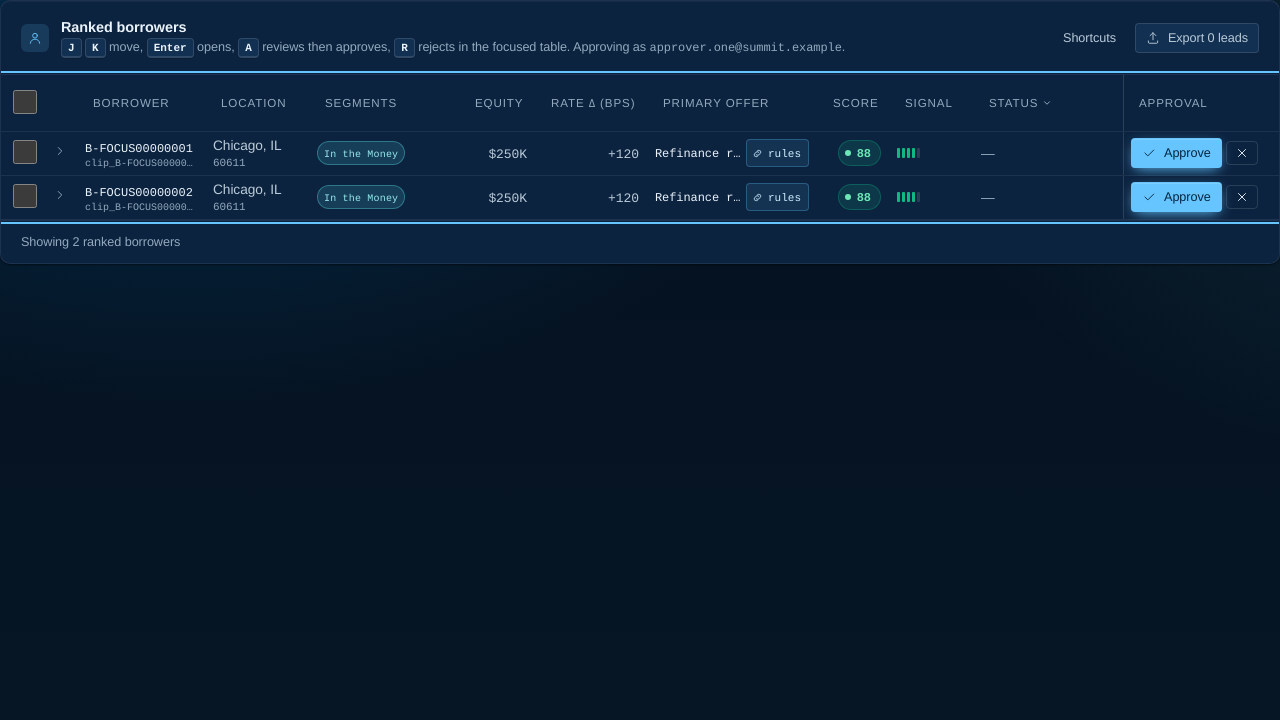
Test case: LeadTable: focus around the approve review › an evidence chip in the review dialog opens the drawer only once the inline review's twin chip holds focus
Press j in the element with class "tbl-wrap", box [1,75,1279,220]
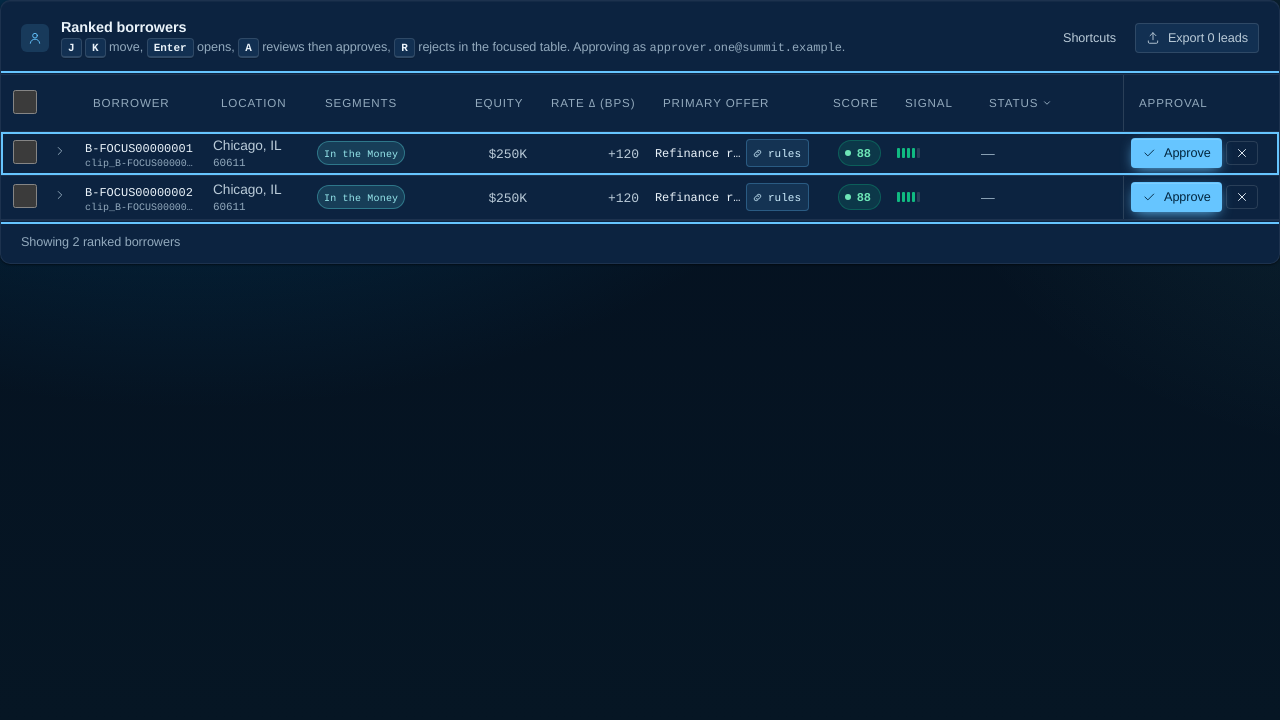
Press a in the element with class "tbl-wrap", box [1,75,1279,220]
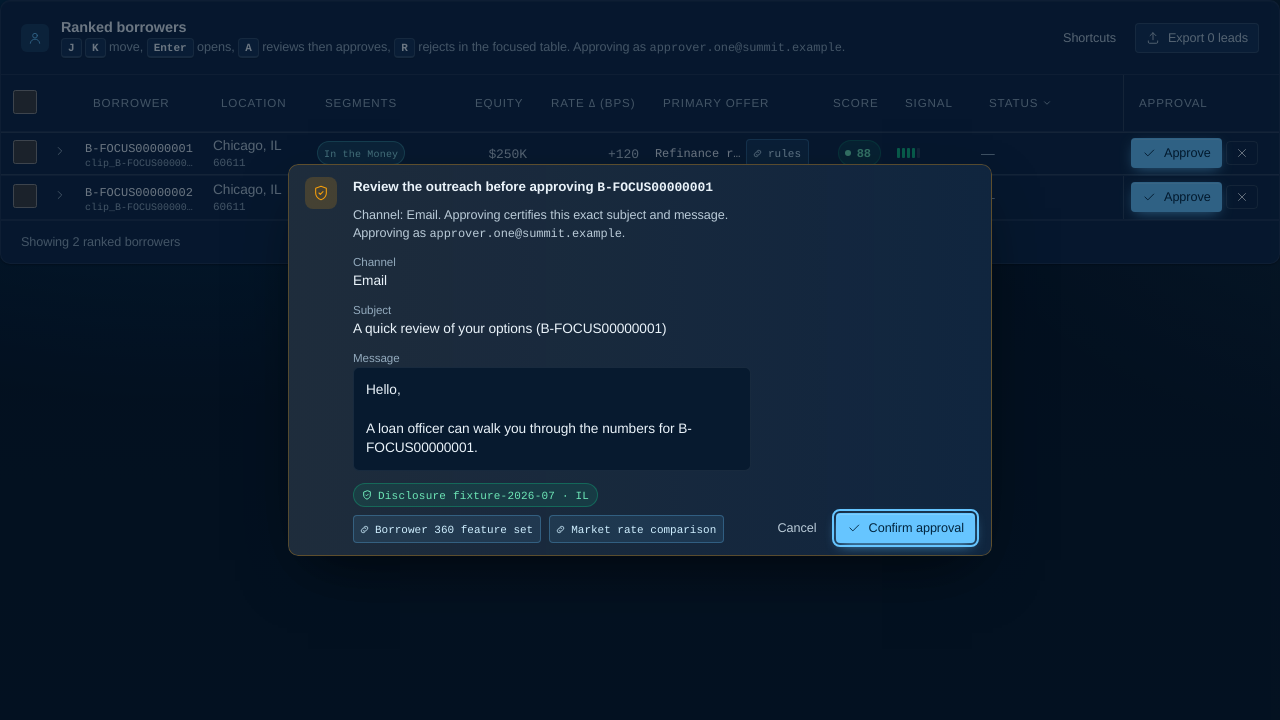
Click the button with class "evidence-chip" showing "Market rate comparison": click(637, 529) [549,515,724,543]
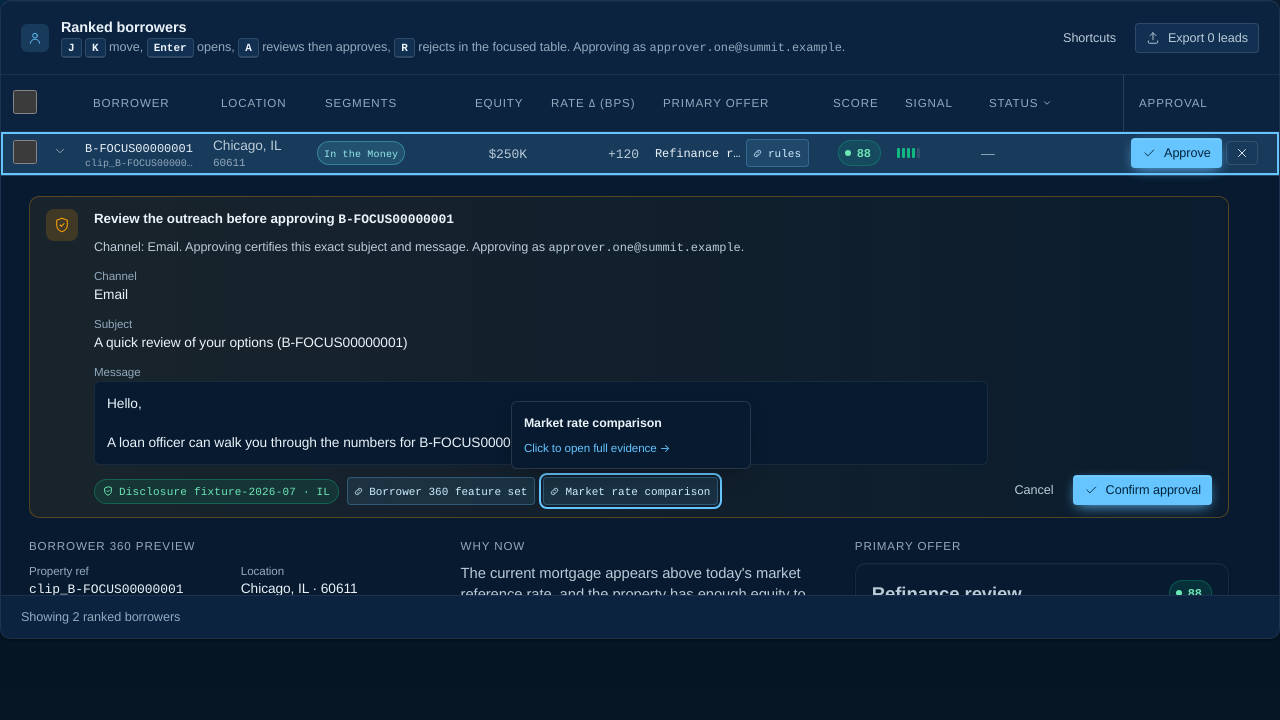
Now the button with class "evidence-chip" showing "Market rate comparison" is shown, box [543,477,718,505]
Now the dialog with class "lead-approve-dialog" is gone
